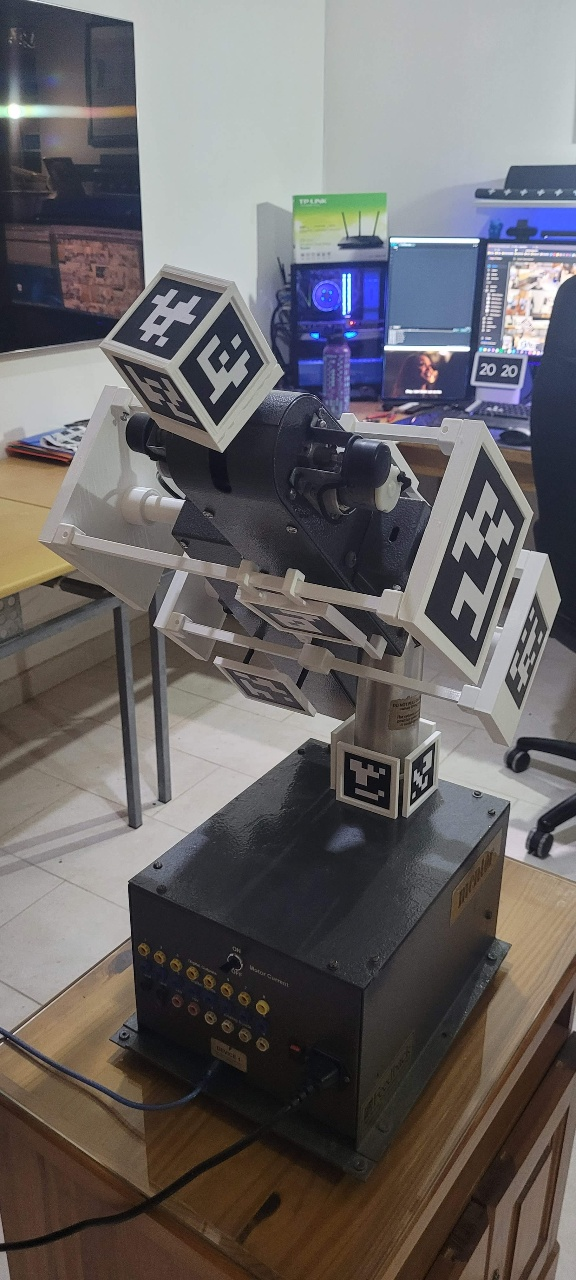Robot: (38, 262, 560, 817)
